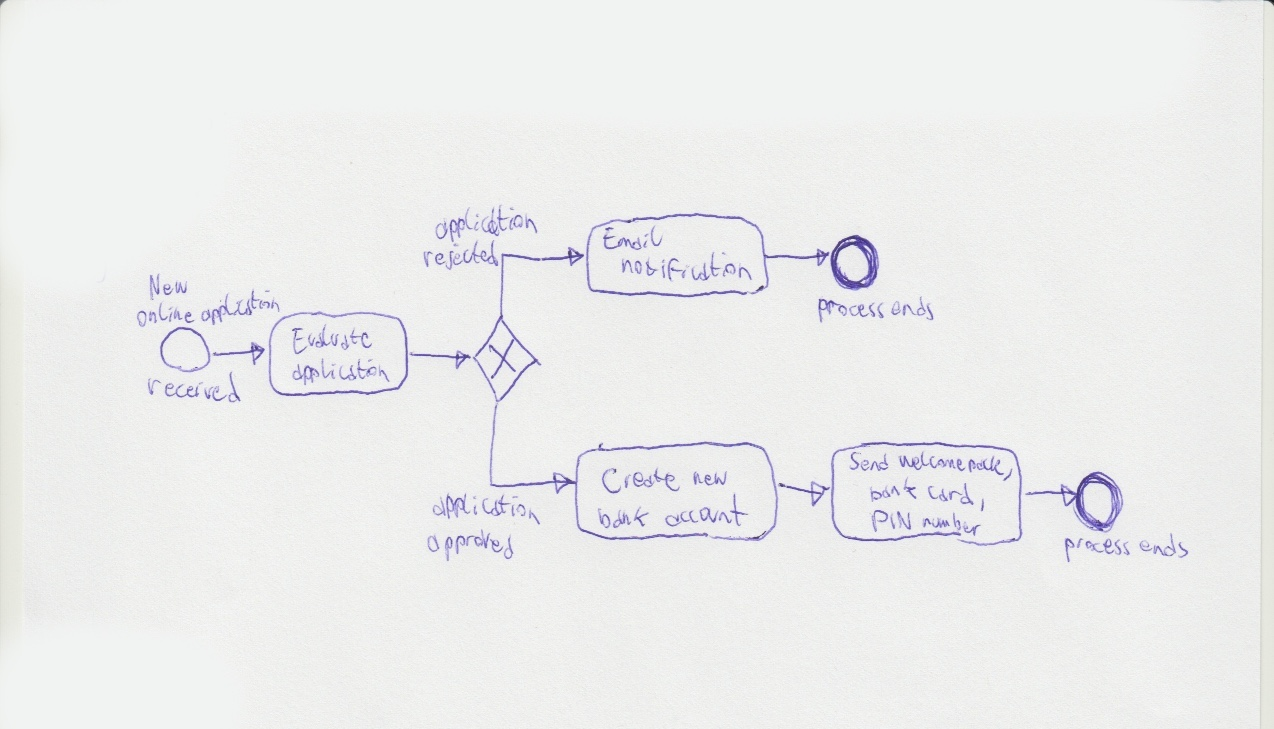Create: (597, 465, 684, 496)
Email: (599, 221, 671, 258)
Evaluate: (288, 323, 378, 357)
New: (142, 265, 194, 301)
PIN: (867, 504, 918, 538)
Send: (844, 449, 897, 479)
account: (663, 496, 748, 533)
application: (423, 484, 555, 527), (427, 201, 542, 245), (196, 290, 285, 330), (288, 357, 394, 387)
approved: (418, 527, 520, 563)
bank: (594, 499, 658, 536), (860, 478, 922, 506)
card,: (924, 479, 992, 510)
ends: (890, 289, 943, 329), (1137, 534, 1192, 566)
new: (687, 461, 735, 493)
notification: (615, 249, 752, 286)
number: (919, 509, 989, 534)
online: (132, 299, 198, 331)
pack,: (966, 453, 1016, 483)
process: (1059, 533, 1136, 567), (812, 296, 889, 323)
received: (141, 373, 242, 414)
rejected: (420, 240, 506, 272)
welcome: (895, 444, 968, 477)
